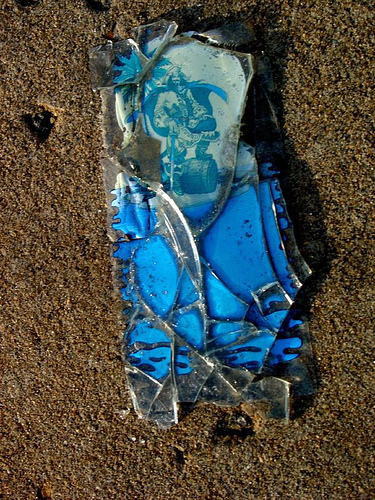litter: (90, 17, 315, 426)
